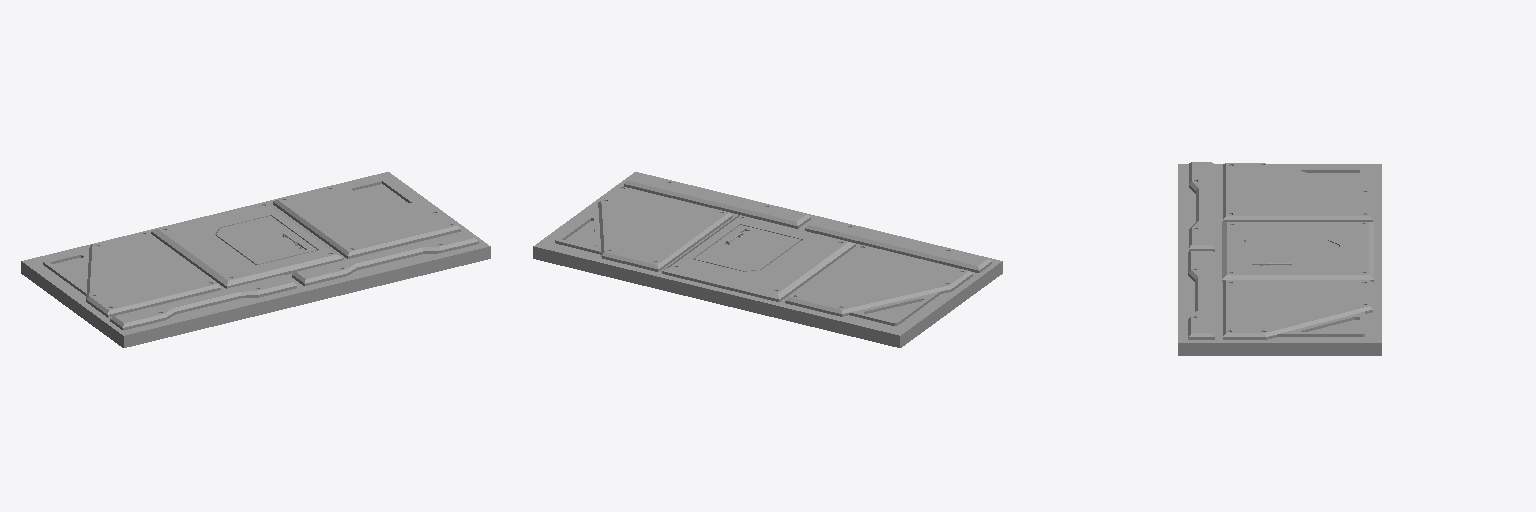
File: s1_bottom_panel_1.obj
3 views of the same model, side by side, from view 1: azimuth 30°, elevation 25°; view 2: azimuth 150°, elevation 25°; view 3: azimuth 270°, elevation 25° (orthographic).
Visible parts, largest first — view 1: mesh_0; view 2: mesh_0; view 3: mesh_0.
Part boxes in pixels (bbox=[...]): mesh_0: bbox=[21, 172, 490, 347]; mesh_0: bbox=[533, 172, 1002, 347]; mesh_0: bbox=[1178, 162, 1381, 355].
Bounding box in the file's own units: 38.16 × 2.05 × 18.38.